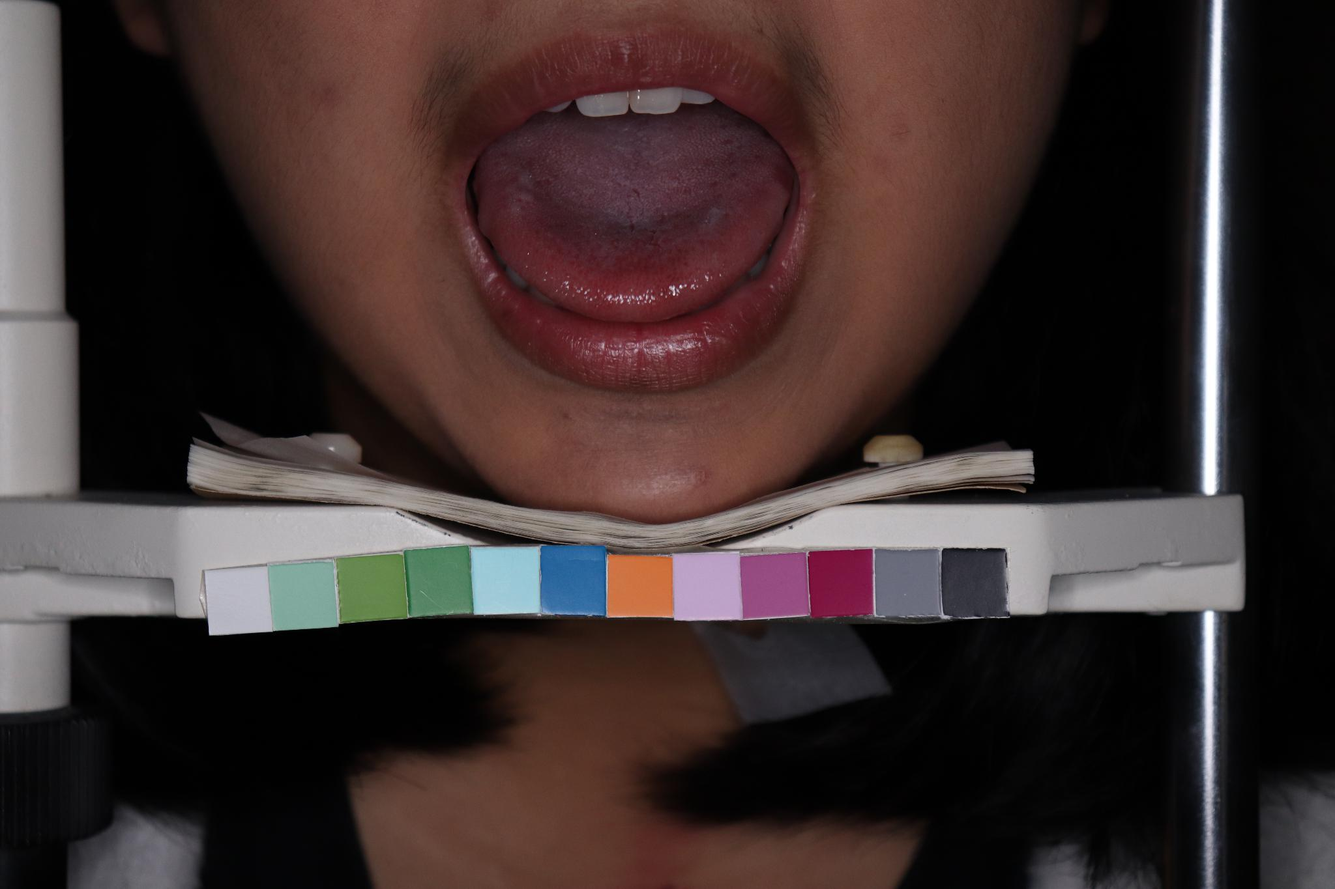baitaishe: (472, 108, 799, 326)
huataishe: (545, 265, 726, 312)
piweiao: (559, 165, 713, 246)
